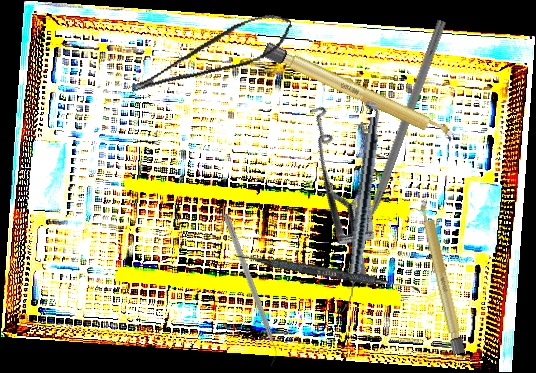Chopper: (344, 14, 447, 246), (215, 212, 283, 368)
Handpiece: (339, 116, 382, 314)
Micro Scissor: (122, 7, 299, 98)
Scalpel Handle: (260, 40, 460, 147), (417, 198, 467, 355)
Spatula Surgical: (233, 252, 422, 293)
Speculum: (252, 77, 441, 281)
